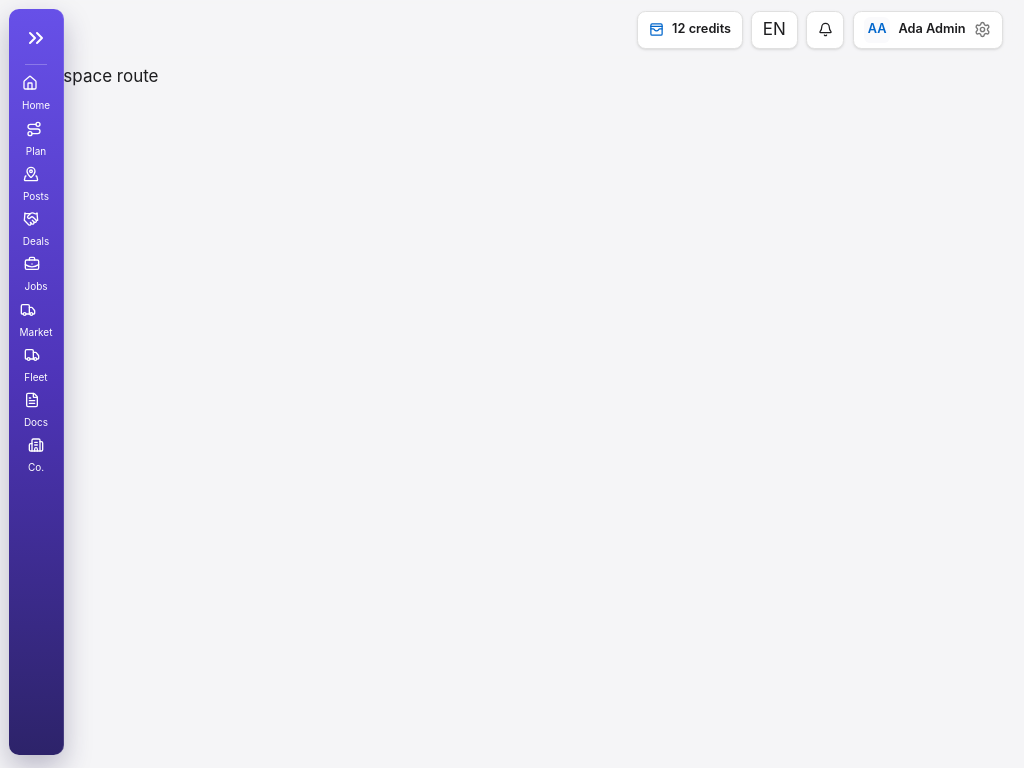
Test: AppShell navigation › opens a clicked rail section and keeps the panel open
Click the button named "Pin sidebar" at (36, 38), box left=17, top=21, right=55, bottom=55
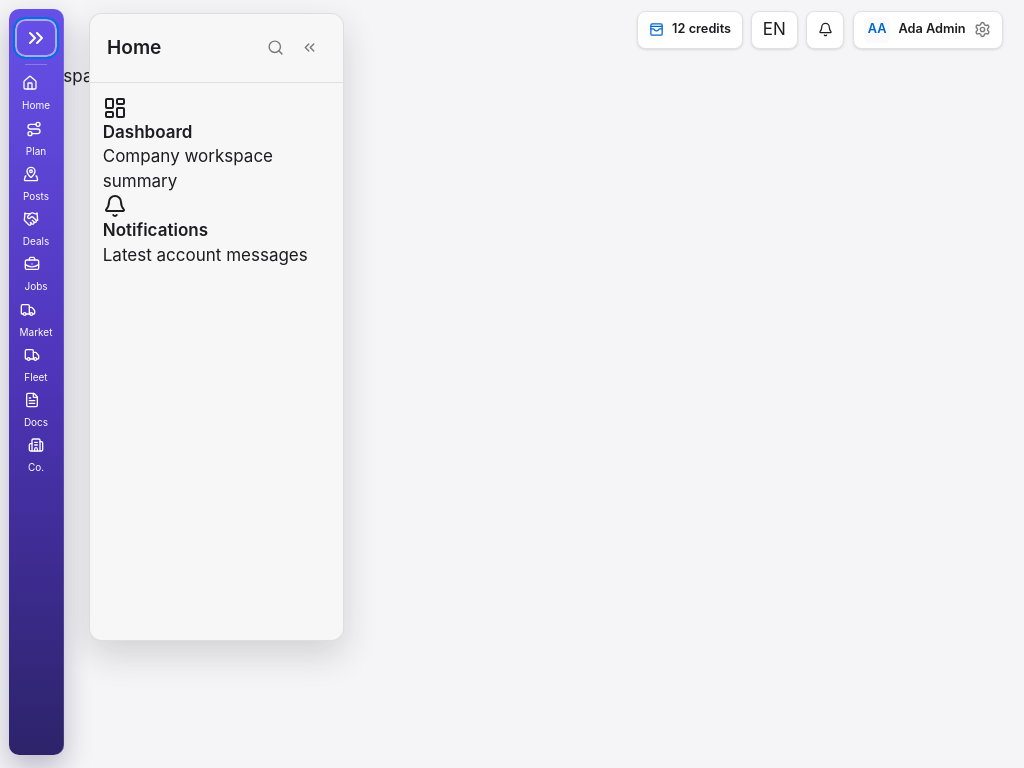
Click the button with aria-label "Open Planning" at (36, 141), box left=26, top=121, right=46, bottom=162
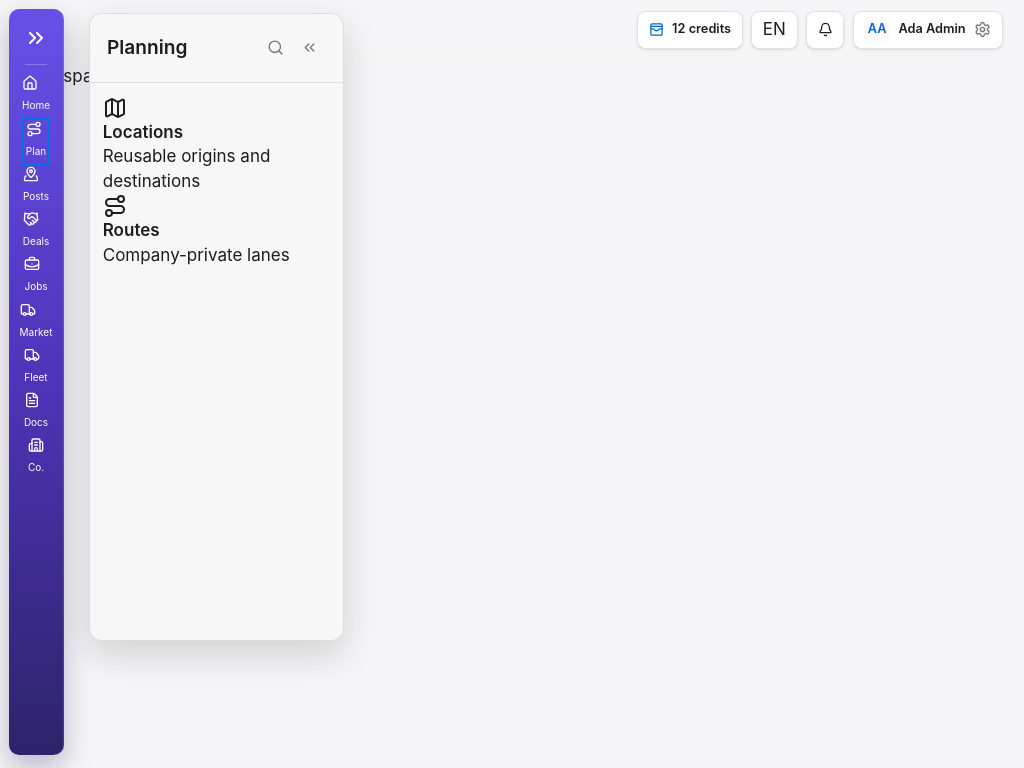
expect the text "Workspace route" is shown: met, box left=21, top=66, right=159, bottom=86
expect the element with test id "secondary-nav-panel" is shown: met, box left=90, top=14, right=343, bottom=266
expect the heading "Planning" is shown: met, box left=107, top=33, right=187, bottom=63
